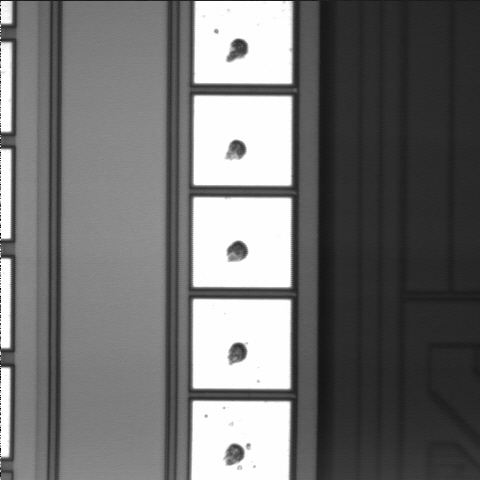pad: (194, 96, 292, 186), (193, 197, 291, 287), (193, 299, 291, 389)
